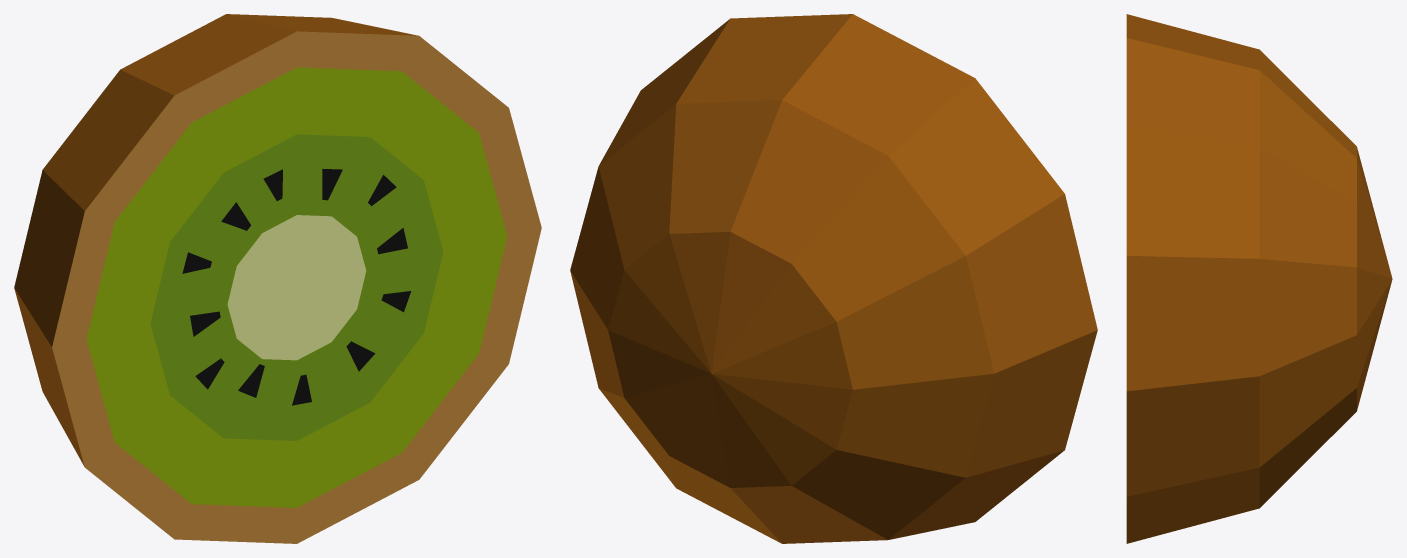
Rendered from Kiwi Half.fbx.
3 renders of one model, left to right at view 1: azimuth 30°, elevation 25°; view 2: azimuth 150°, elevation 25°; view 3: azimuth 270°, elevation 25°, orthographic. The views are drawn at different scales.
Visible parts, largest first — view 1: Kiwi Half; view 2: Kiwi Half; view 3: Kiwi Half.
Boxes of the visible parts, x1,y1,x2,y2 form: Kiwi Half: [14, 14, 541, 543]; Kiwi Half: [570, 14, 1097, 543]; Kiwi Half: [1126, 14, 1392, 543].
Bounding box in the file's own units: 11.15 × 11.15 × 5.58.
